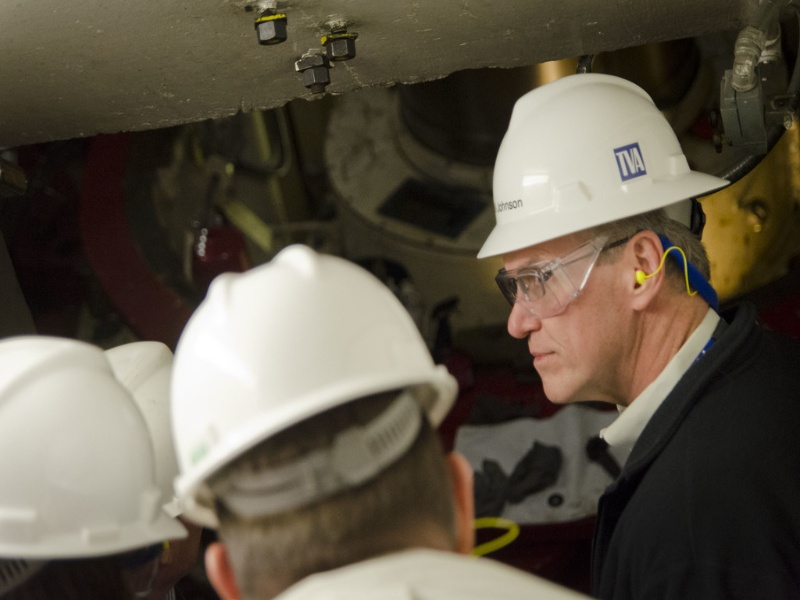Baret: (171, 244, 459, 479), (476, 71, 730, 267)
Gozluk: (471, 254, 615, 310)
